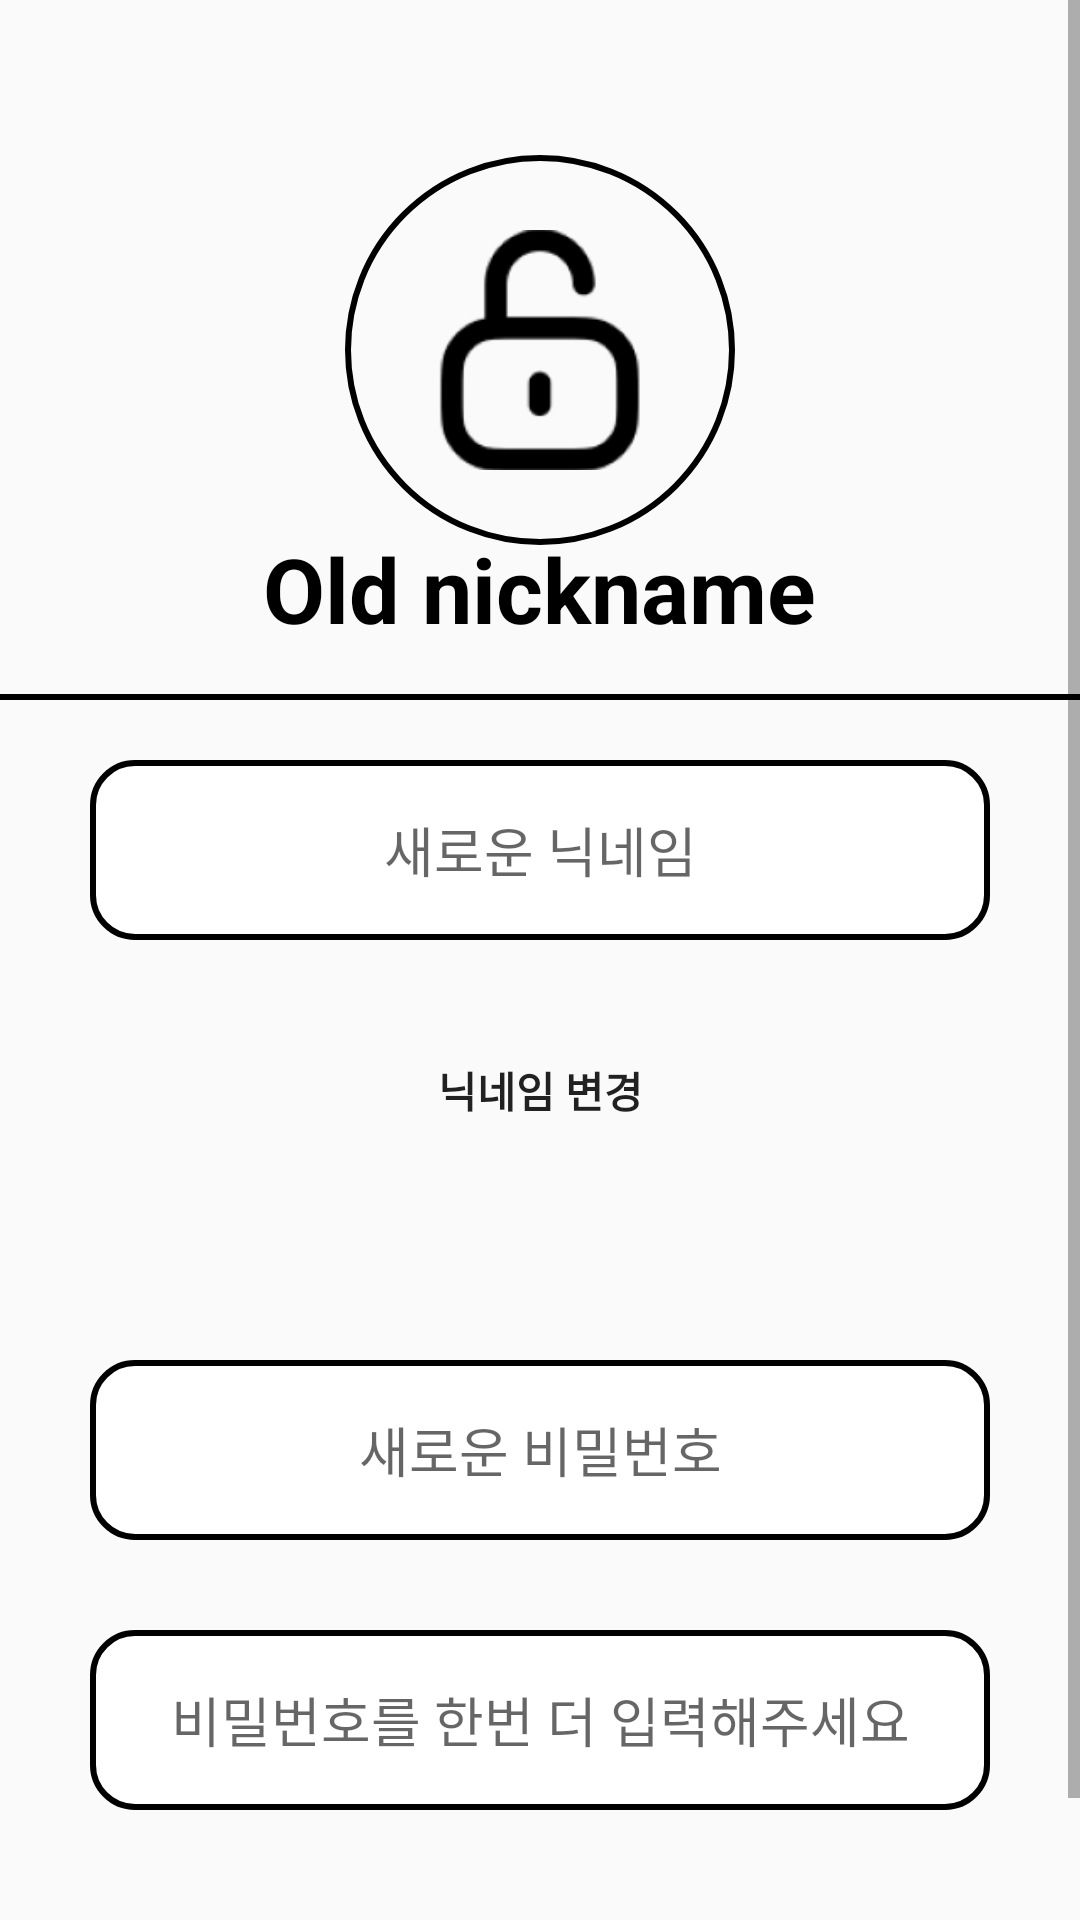

Where icons sit on this 1080px×1920px app screen, as (x1=x1, y1=y1, x2=x2, y2=y2):
password: (x1=440, y1=230, x2=640, y2=470)
